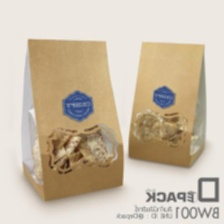snack: (14, 32, 128, 206), (123, 34, 213, 172)
